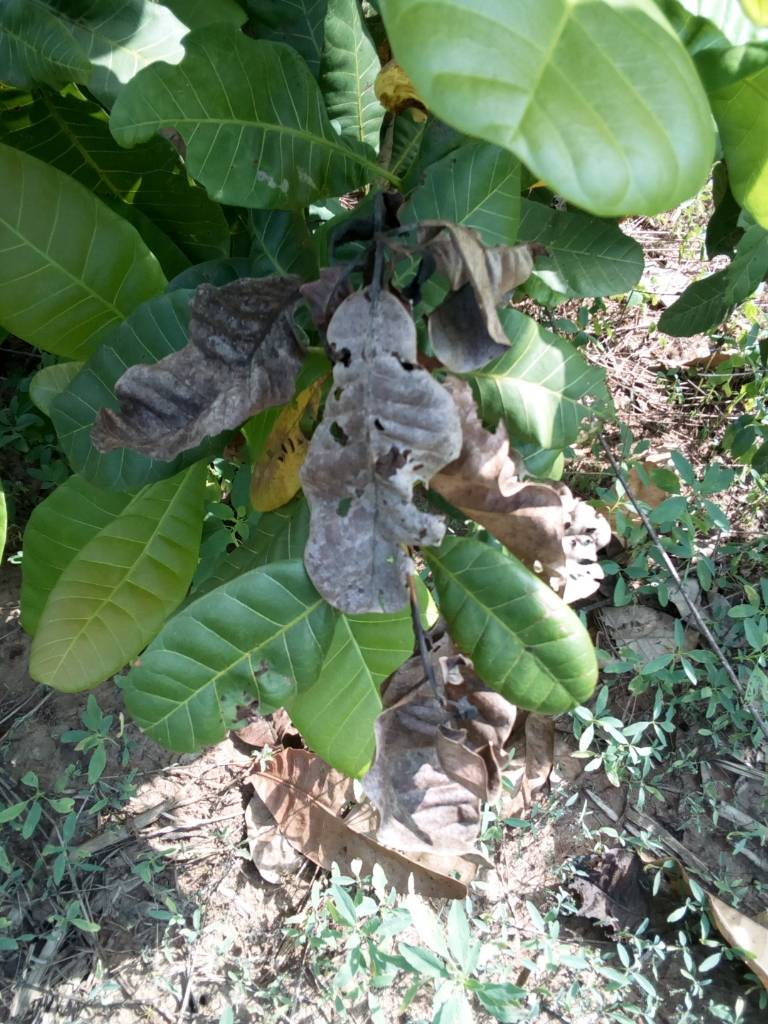Die-black: (80, 222, 332, 471), (294, 282, 452, 644), (443, 394, 622, 613), (404, 210, 538, 383)
